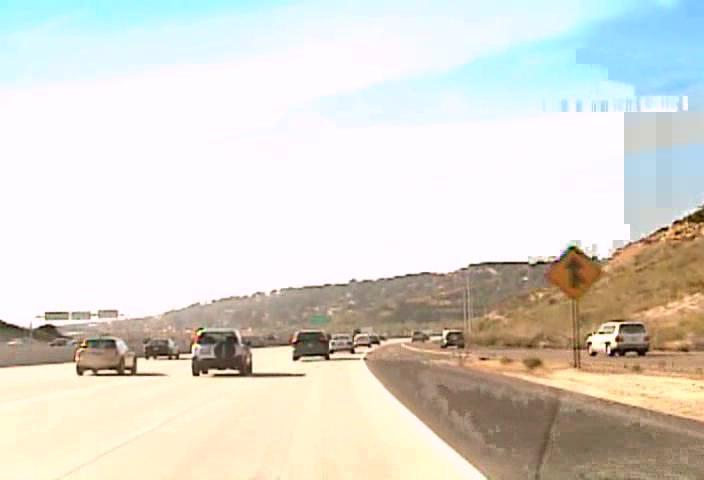merge: (544, 245, 601, 299)
